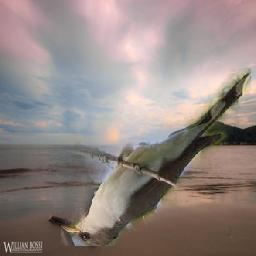Cuckoo: (61, 68, 251, 246)
